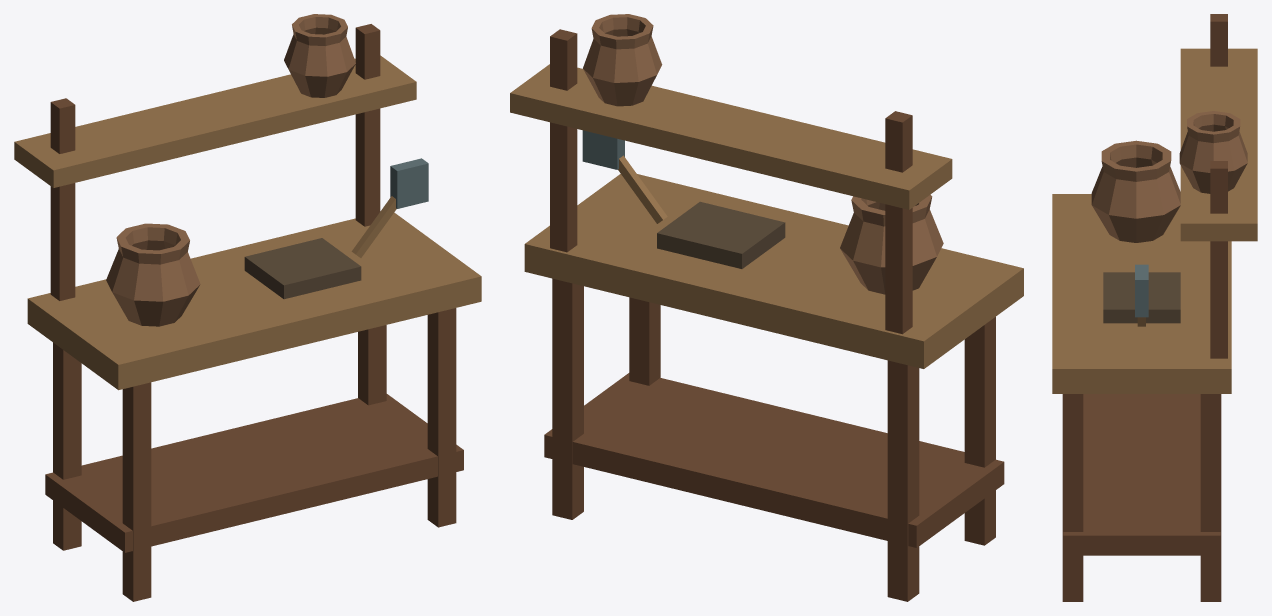
File: Prop_Daily_PottingBench_001_LOD1.glb
The picture shows the model from 3 angles, left to right: view 1: azimuth 30°, elevation 25°; view 2: azimuth 150°, elevation 25°; view 3: azimuth 270°, elevation 25°; orthographic projection. The views are drawn at different scales.
Visible parts, largest first — view 1: Prop_Daily_PottingBench_001_LOD1; view 2: Prop_Daily_PottingBench_001_LOD1; view 3: Prop_Daily_PottingBench_001_LOD1.
Part boxes in pixels (bbox=[...]): Prop_Daily_PottingBench_001_LOD1: bbox=[14, 14, 481, 601]; Prop_Daily_PottingBench_001_LOD1: bbox=[510, 14, 1023, 601]; Prop_Daily_PottingBench_001_LOD1: bbox=[1052, 14, 1257, 601].
Bounding box in the file's own units: 1.5 × 1.8 × 0.745.
